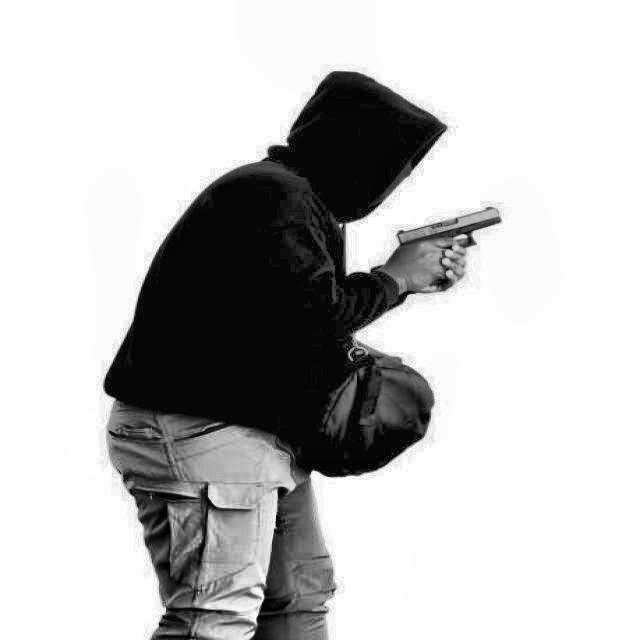pistol: (390, 198, 504, 296)
robbery: (83, 50, 515, 639)
